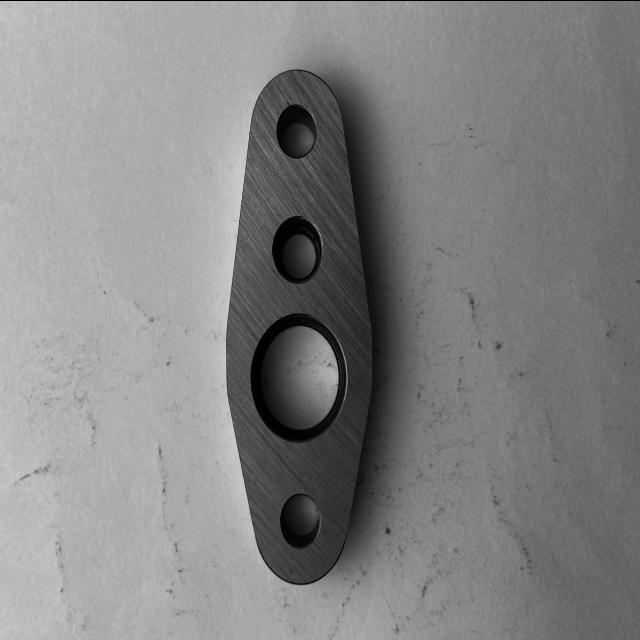chap: (315, 474, 321, 479)
lines: (253, 194, 275, 210)
